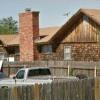Chimney: (11, 7, 47, 62)
